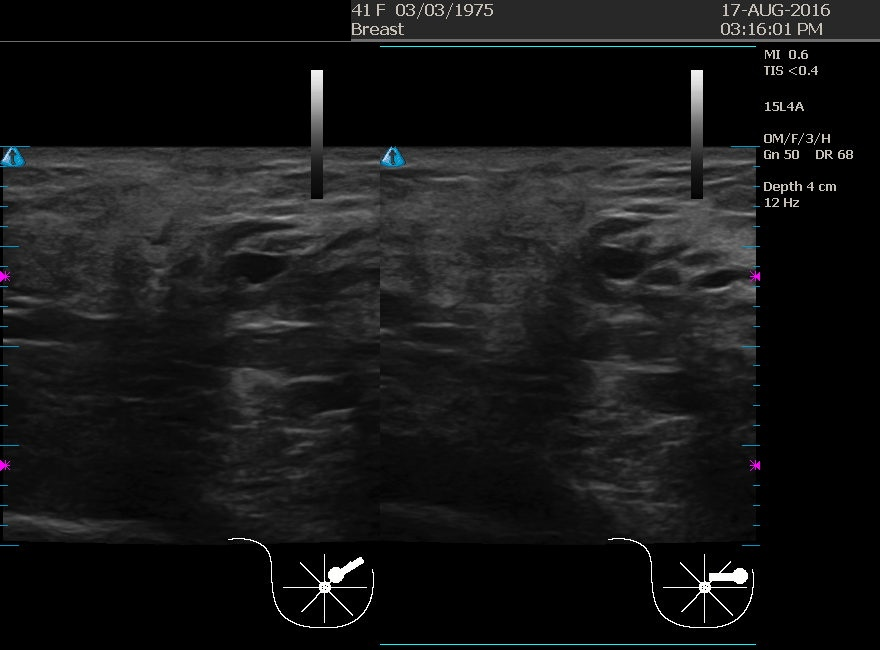BIRADS_2: (154, 210, 354, 410), (485, 154, 685, 354)
